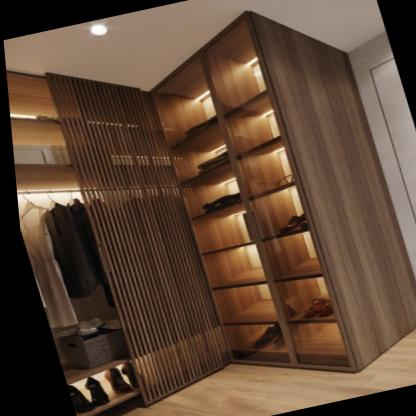Transparent Closet: (4, 12, 361, 416)
